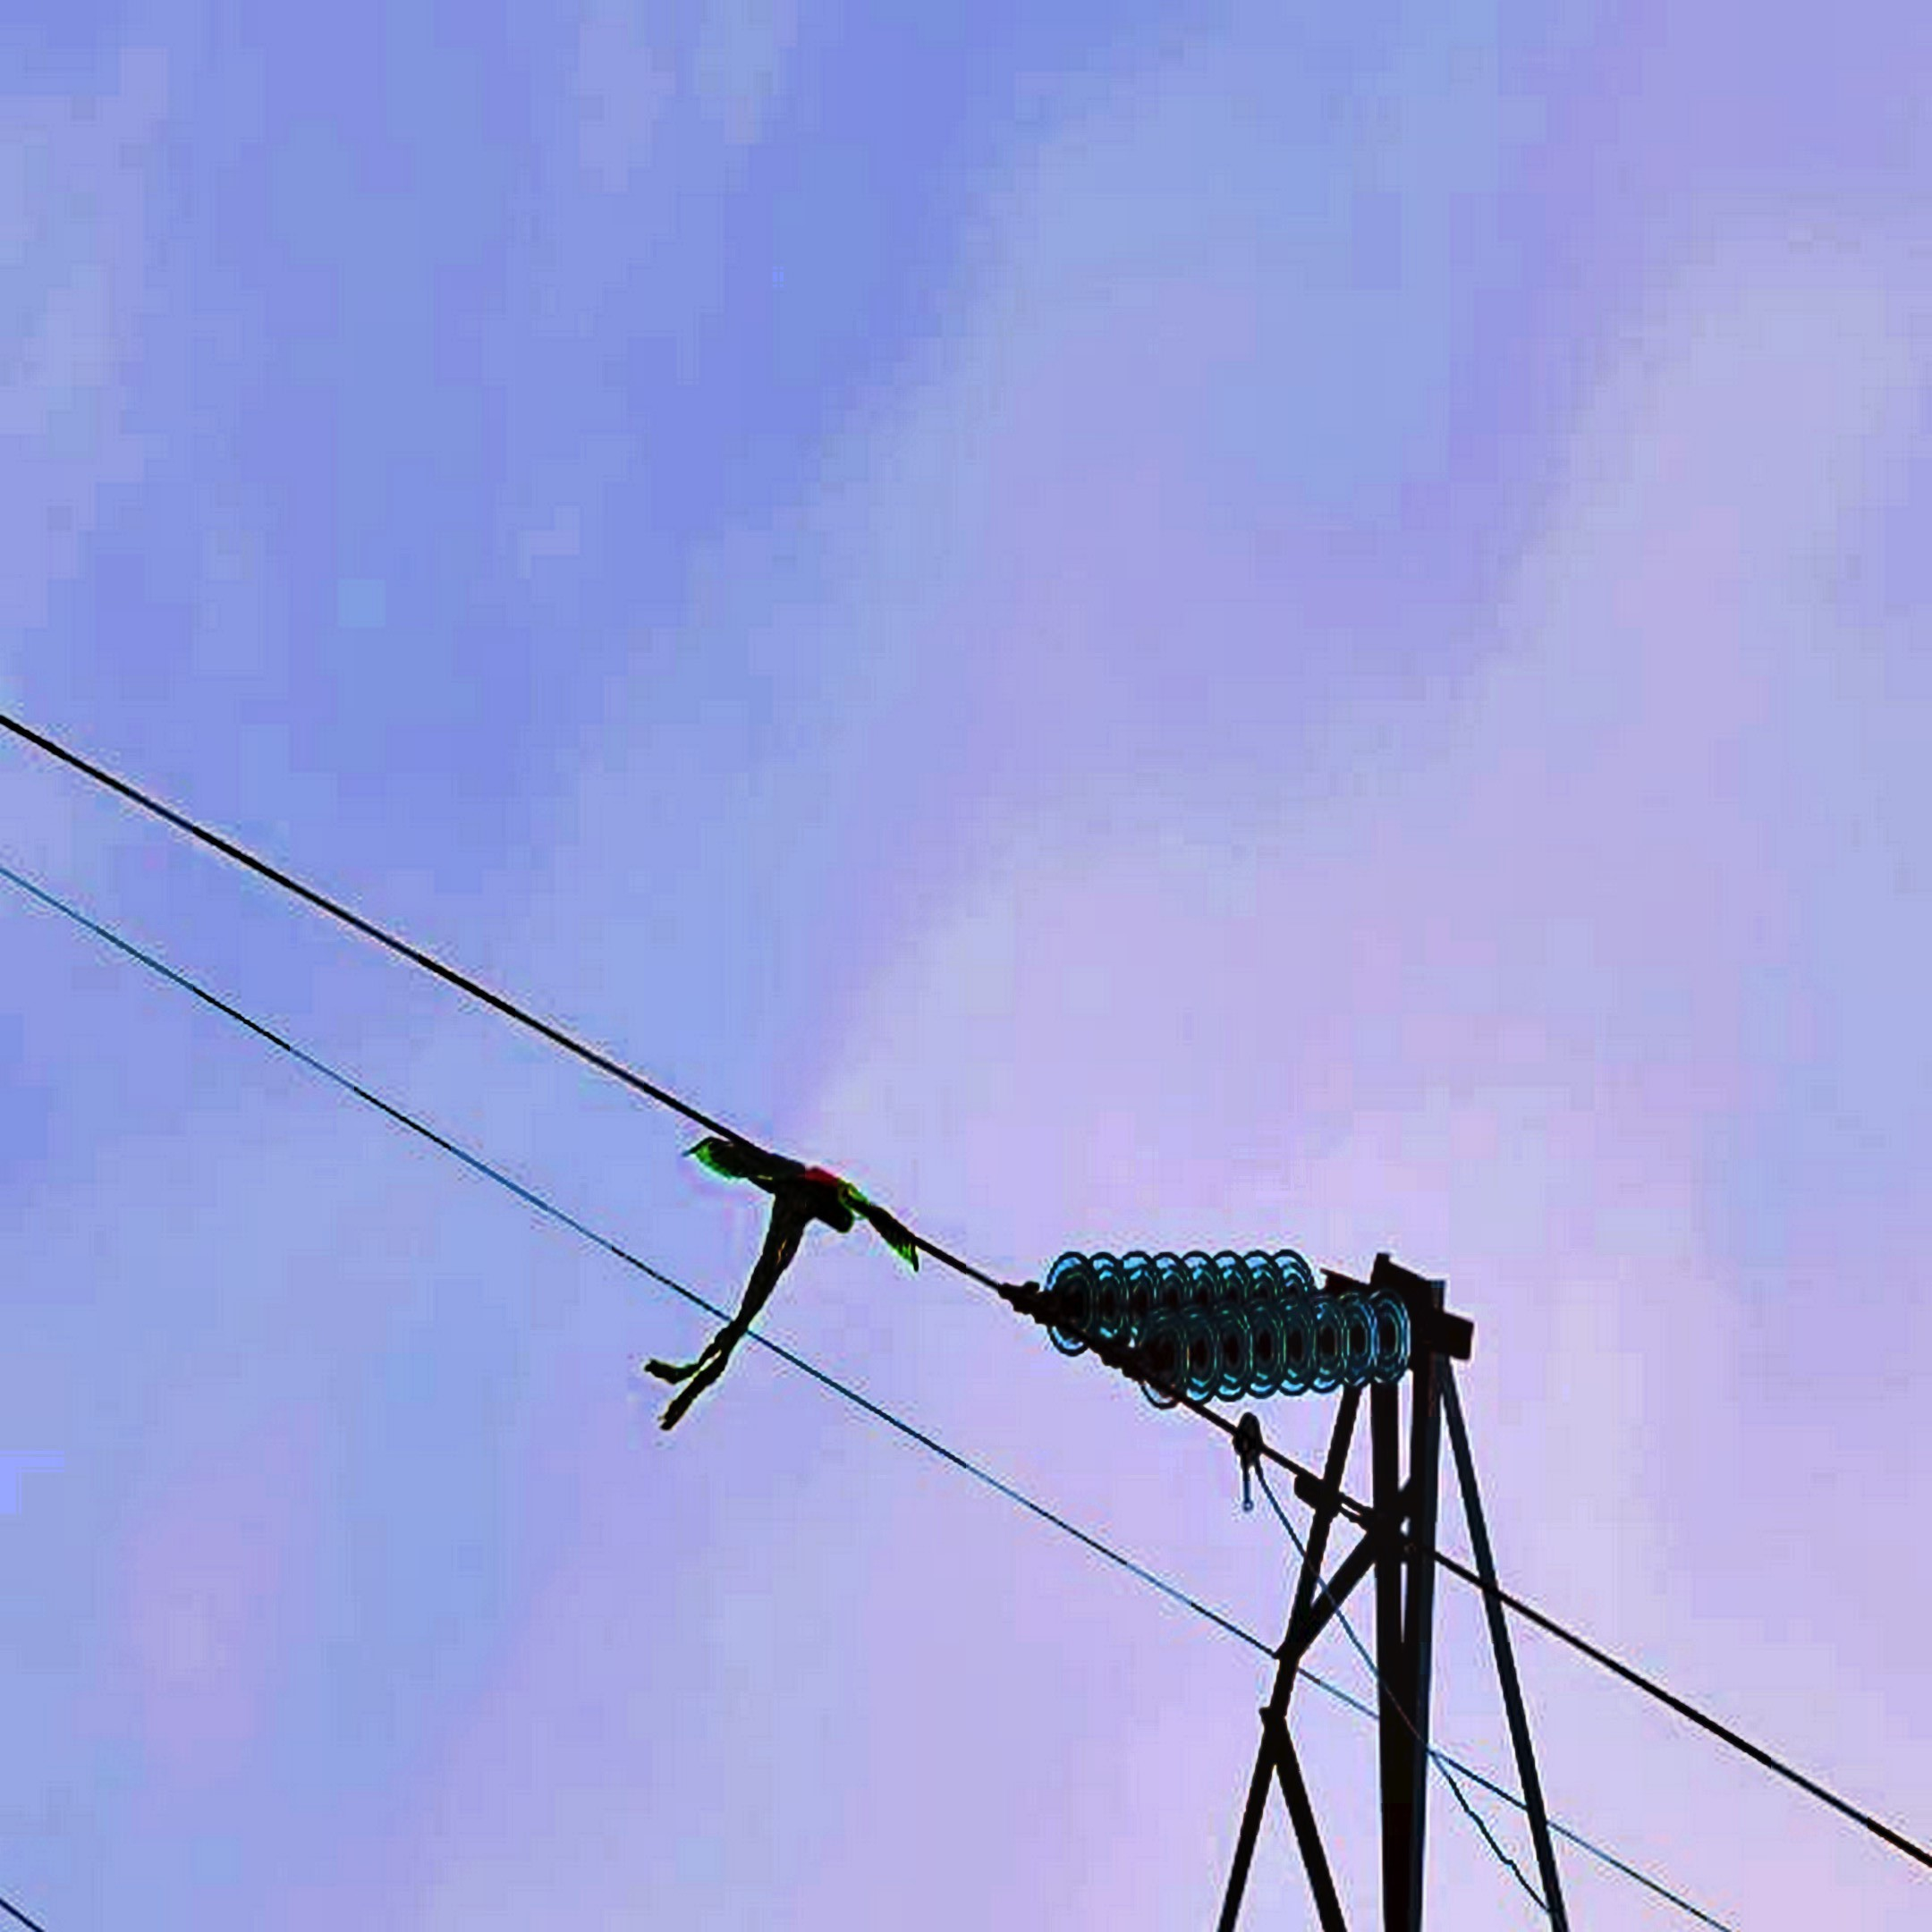wire foreign body: (633, 1095, 927, 1476)
